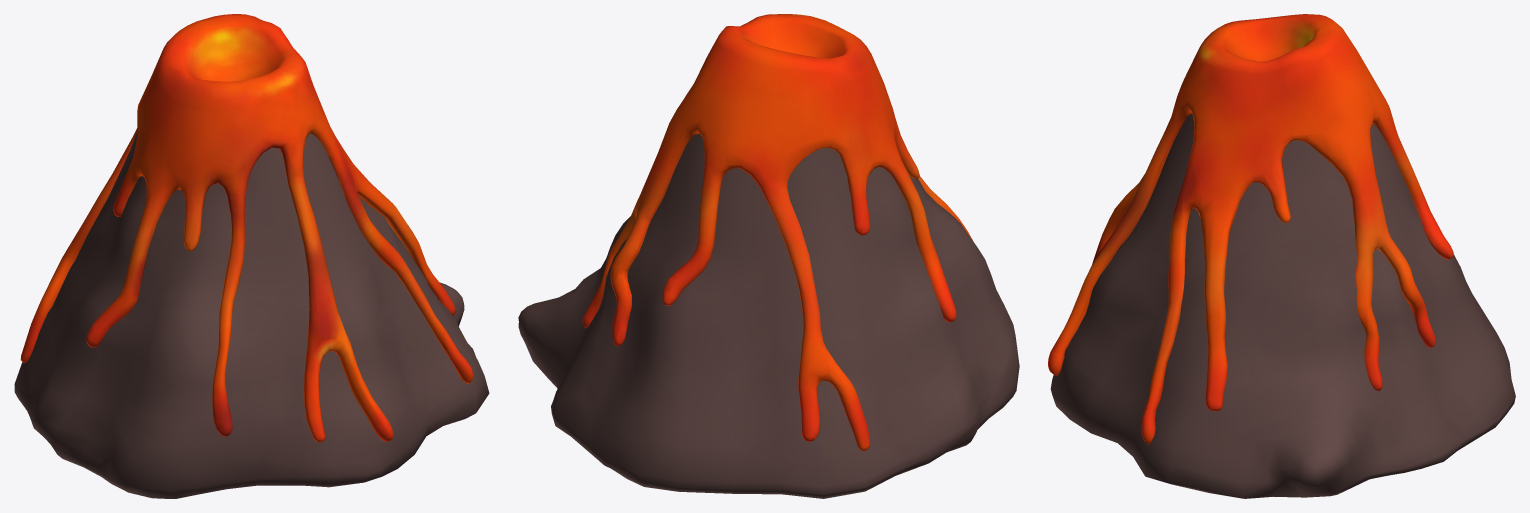
The model's file is volcano-transformed.glb.
3 views of the same model, side by side, from view 1: azimuth 30°, elevation 25°; view 2: azimuth 150°, elevation 25°; view 3: azimuth 270°, elevation 25° (orthographic).
Parts seen in each view (by area): view 1: node_id33; view 2: node_id33; view 3: node_id33.
Part boxes in pixels (bbox=[...]): node_id33: bbox=[14, 14, 489, 498]; node_id33: bbox=[518, 14, 1019, 498]; node_id33: bbox=[1048, 14, 1515, 498].
Size of the model in its own units: 0.512 by 0.4241 by 0.4847.
Materials: 1 (1 with a texture image).
